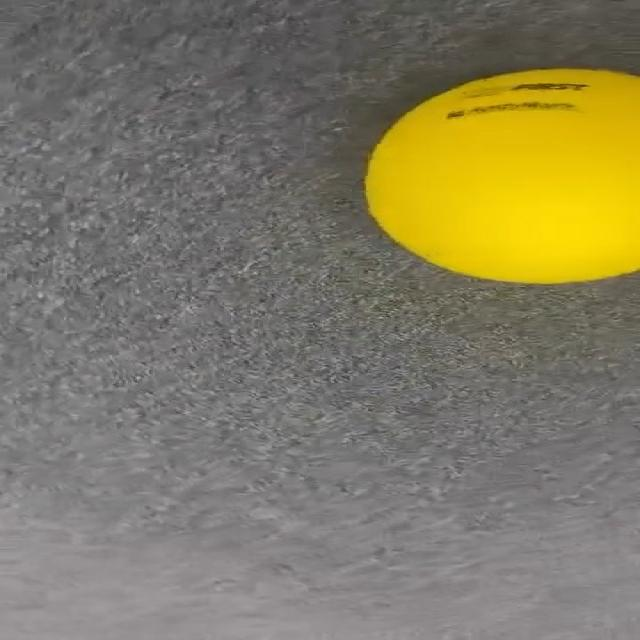Fuels: (364, 68, 636, 284)
